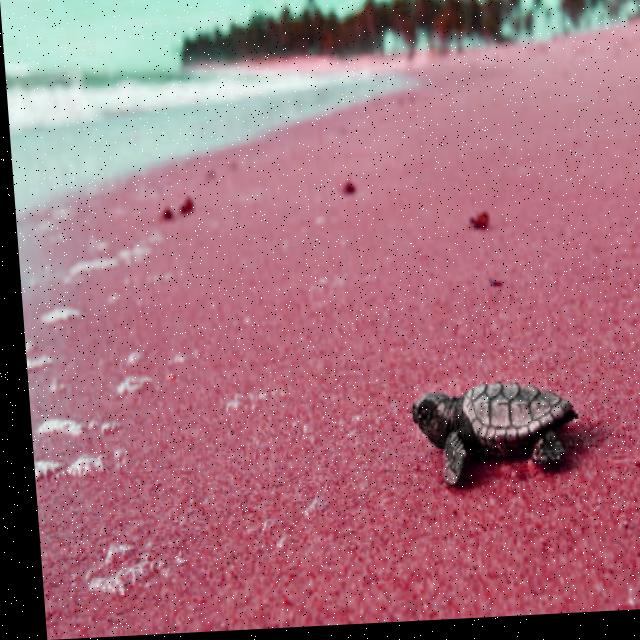sea turtle: (398, 360, 592, 514), (457, 380, 568, 444), (403, 394, 439, 446)
